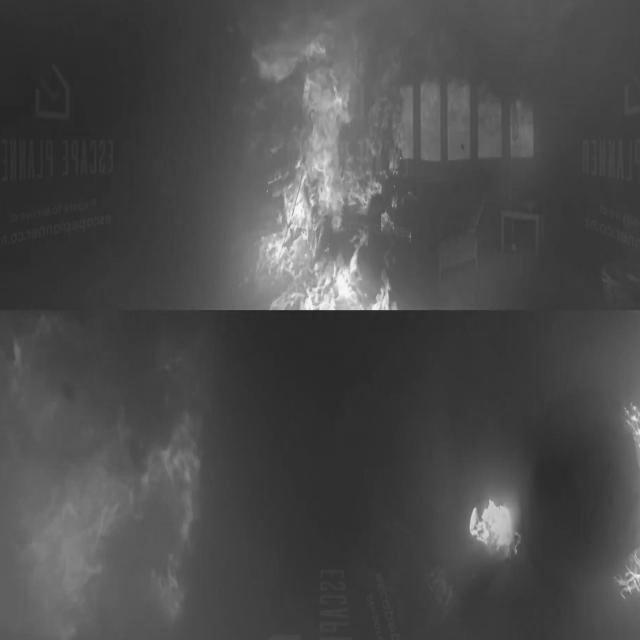smoke: (248, 24, 407, 310), (615, 380, 640, 609), (461, 484, 522, 562)
